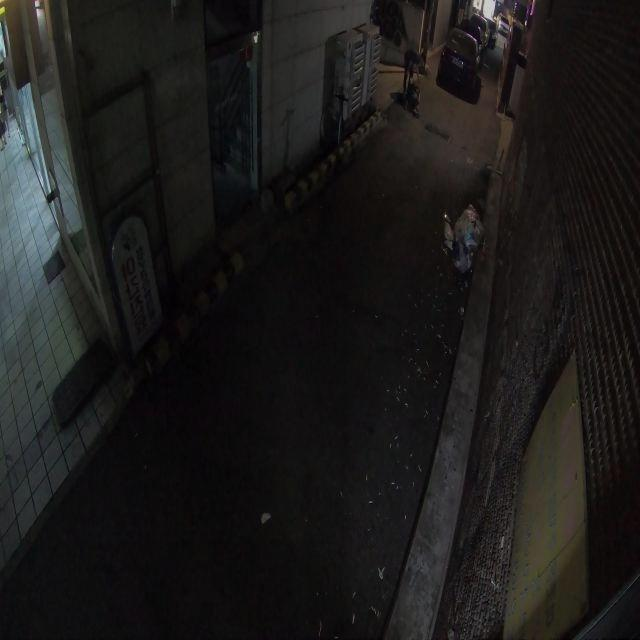fight: (398, 43, 428, 120)
